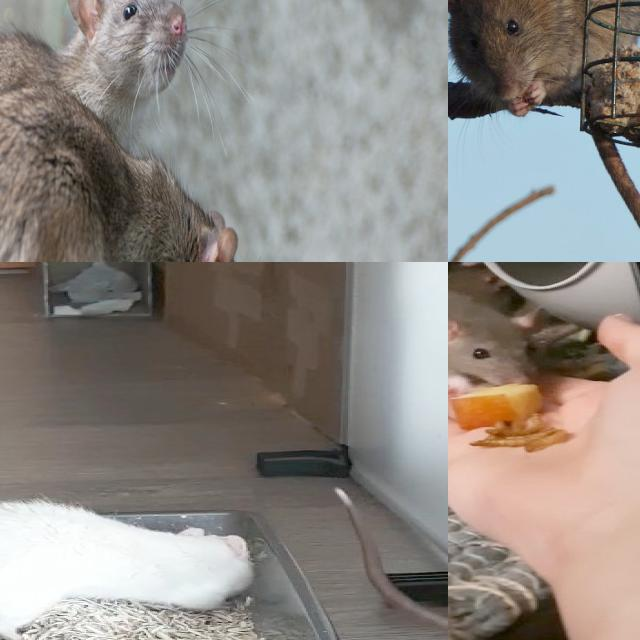rat: (0, 0, 192, 262), (0, 83, 268, 262), (0, 500, 248, 640), (448, 0, 640, 109), (448, 288, 551, 394)
